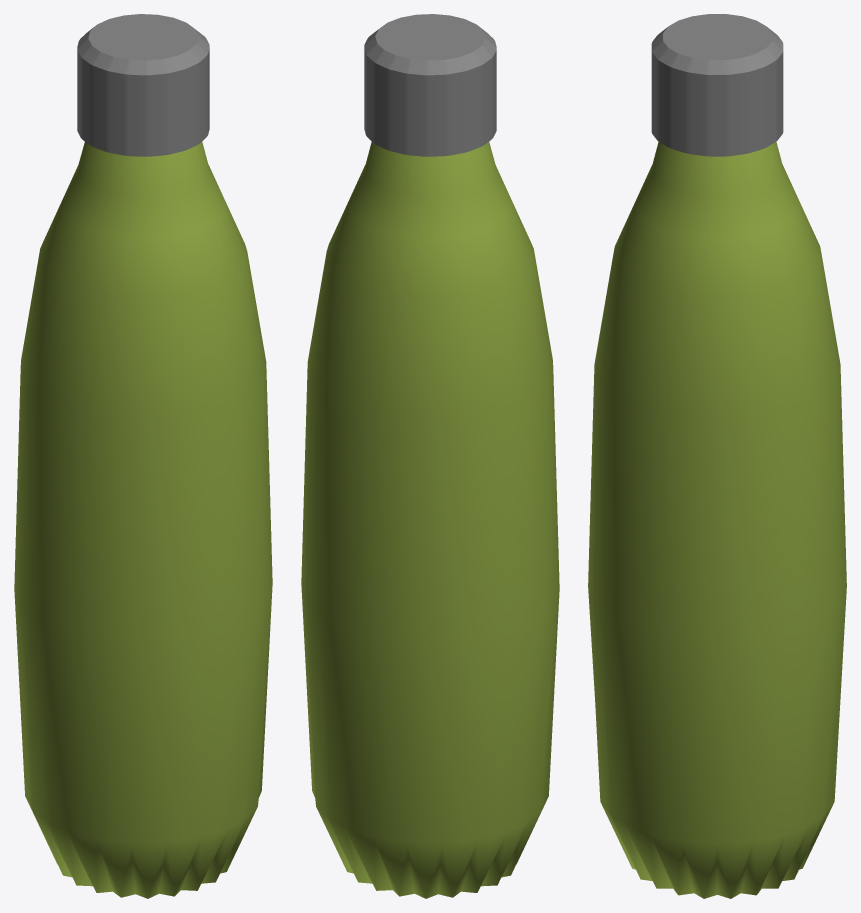
File: prize2.fbx
3 renders of one model, left to right at view 1: azimuth 30°, elevation 25°; view 2: azimuth 150°, elevation 25°; view 3: azimuth 270°, elevation 25°, orthographic.
Visible parts, largest first — view 1: pCylinder1, pCylinder2; view 2: pCylinder1, pCylinder2; view 3: pCylinder1, pCylinder2.
Part boxes in pixels (<box>): pCylinder1: <box>14,142,272,898</box>; pCylinder2: <box>77,14,209,156</box>; pCylinder1: <box>301,142,559,898</box>; pCylinder2: <box>364,14,496,156</box>; pCylinder1: <box>588,141,846,898</box>; pCylinder2: <box>651,14,783,156</box>.
Bounding box in the file's own units: 7.66 × 26.95 × 7.66.
